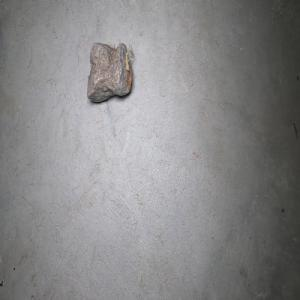Rock: (86, 42, 133, 102)
